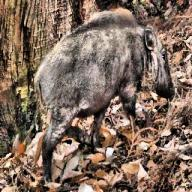boar: (32, 7, 175, 185)
